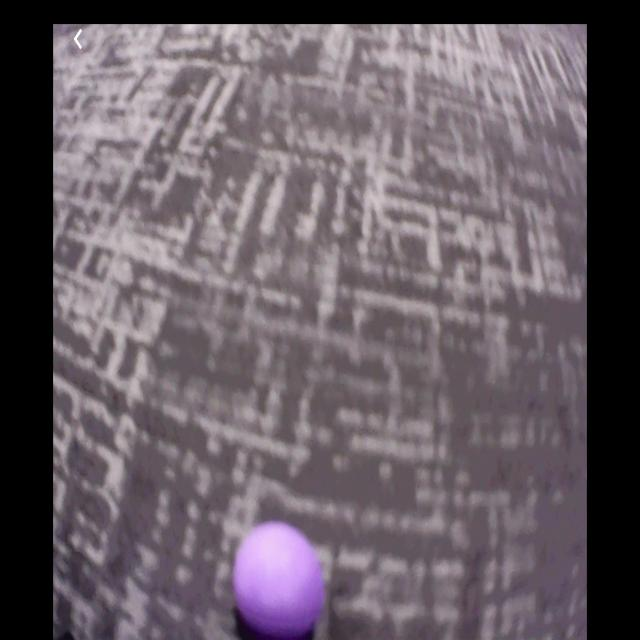ball: (237, 523, 324, 637)
